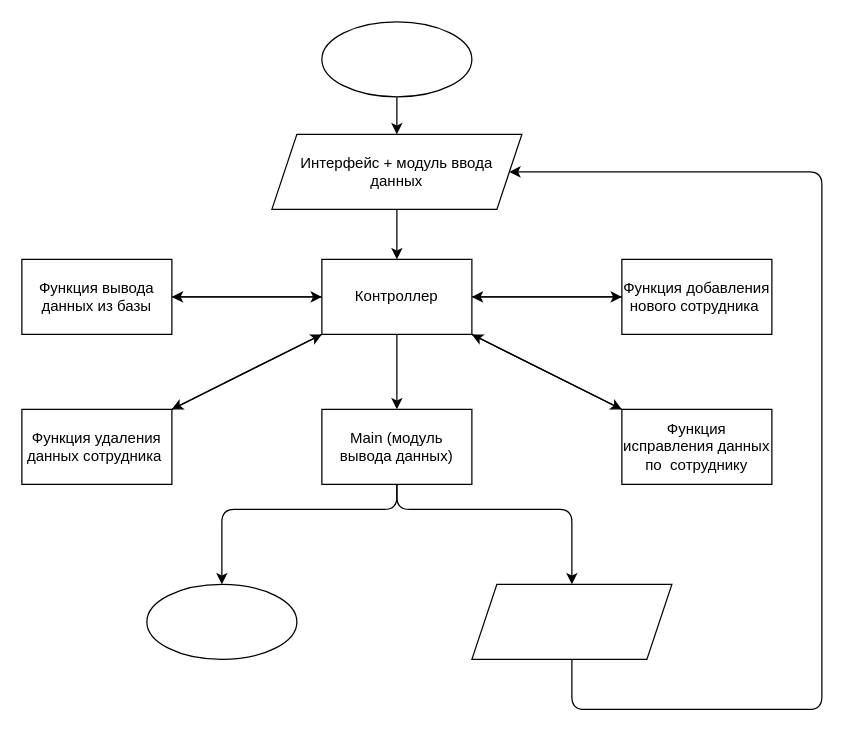
This 854x741 diagram has some shape labels left out. Here are the shapes that lost their labels. From the top down, the centre of each, then its label:
At [396,59]: "Начало".
At [221,621]: "Конец".
At [571,621]: "Вывод данных базы сотрудников".
